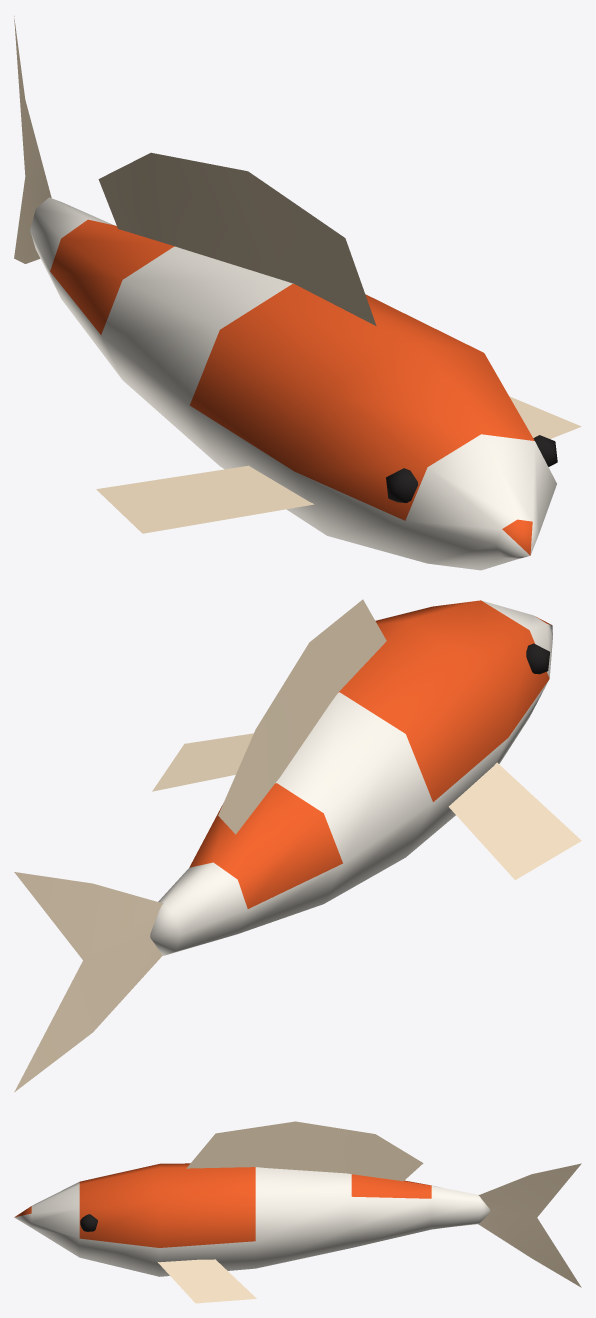
Rendered from koi-fish.glb.
3 views of the same model, one above another, from view 1: azimuth 30°, elevation 25°; view 2: azimuth 150°, elevation 25°; view 3: azimuth 270°, elevation 25° (orthographic). The views are drawn at different scales.
Parts seen in each view (by area): view 1: KoiBody, Part_KoiFin, Part_KoiEye; view 2: KoiBody, Part_KoiFin; view 3: KoiBody, Part_KoiFin, Part_KoiEye.
Part boxes in pixels (x1,y1,x2,y2): KoiBody: (30,197,556,570); Part_KoiFin: (14,16,581,533); Part_KoiEye: (386,435,557,502); KoiBody: (150,600,552,955); Part_KoiFin: (14,599,581,1092); KoiBody: (14,1163,490,1276); Part_KoiFin: (158,1121,581,1303); Part_KoiEye: (80,1214,97,1231).
Size of the model in its own units: 0.324 by 0.214 by 0.71.
